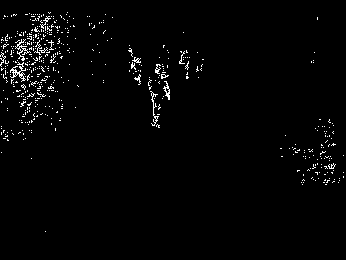person: (147, 65, 171, 127)
